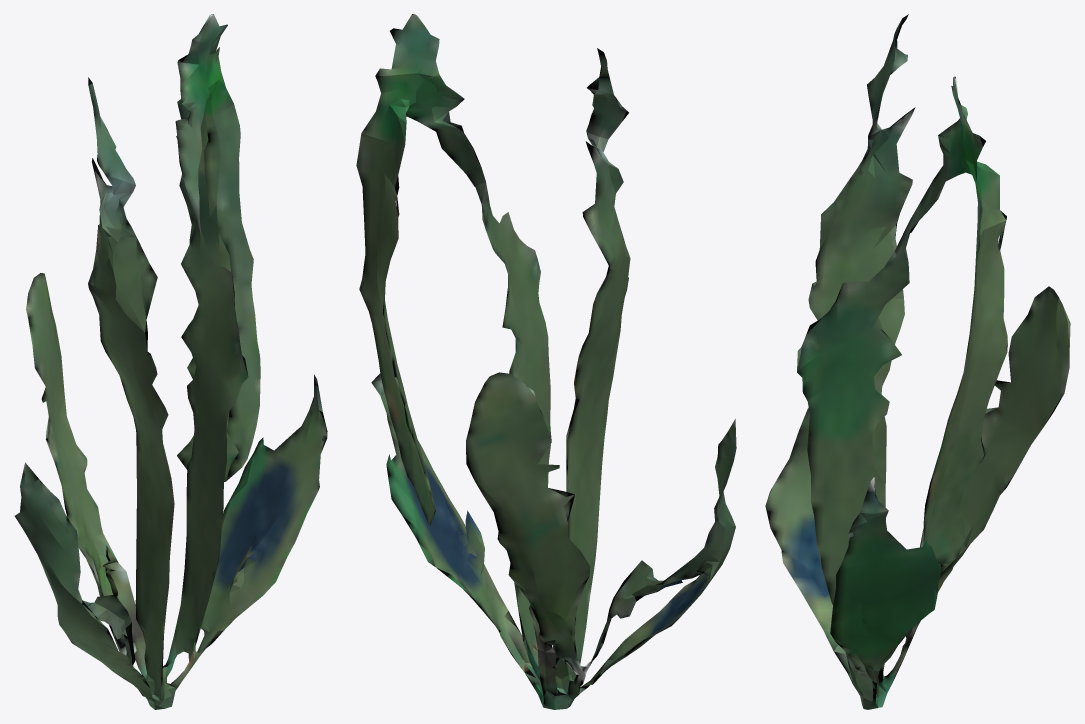
The model's file is Plant14.glb.
The picture shows the model from 3 angles, left to right: view 1: azimuth 30°, elevation 25°; view 2: azimuth 150°, elevation 25°; view 3: azimuth 270°, elevation 25°; orthographic projection. The views are drawn at different scales.
Visible parts, largest first — view 1: model.002_LOD0; view 2: model.002_LOD0; view 3: model.002_LOD0.
Boxes of the visible parts, x1,y1,x2,y2 form: model.002_LOD0: (14, 14, 327, 709); model.002_LOD0: (356, 14, 736, 709); model.002_LOD0: (765, 14, 1070, 709).
Size of what is drawn, in the model's own units: 0.2554 by 0.4977 by 0.204.
Materials: 1 (1 with a texture image).
